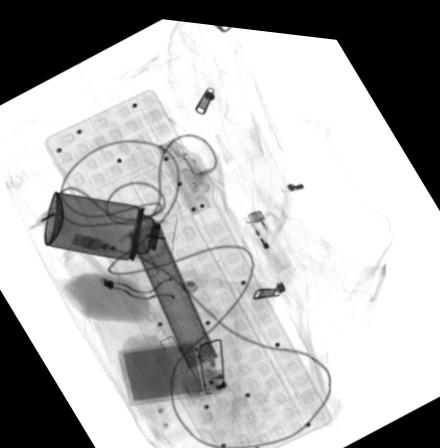Lighter: (239, 203, 292, 268)
Powerbank: (118, 331, 221, 403)
Sprayer: (43, 189, 178, 259)
